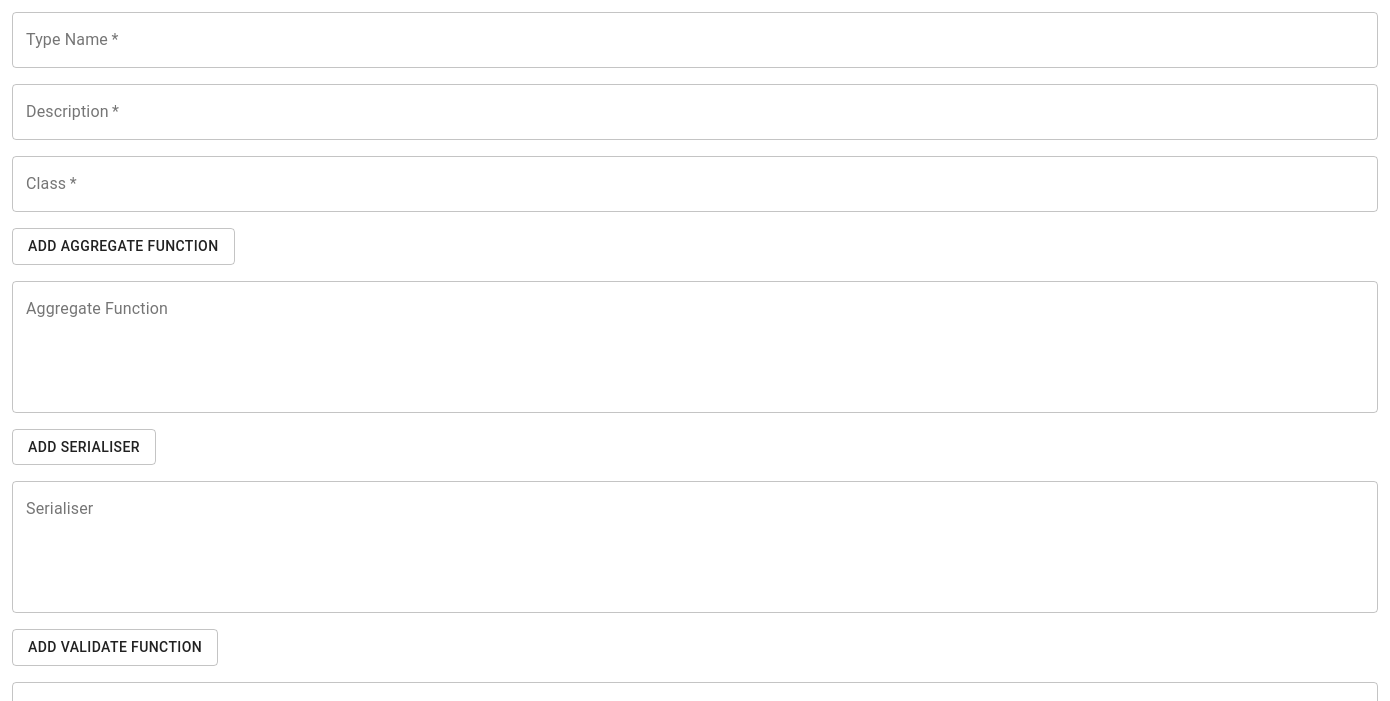
Scenario: Add Type UI Component › Add Type inputs › should display error message when invalid type name entered
In the field with id "type-name-input": (695, 40) x1=12 y1=12 x2=1378 y2=68, type "type name 1"
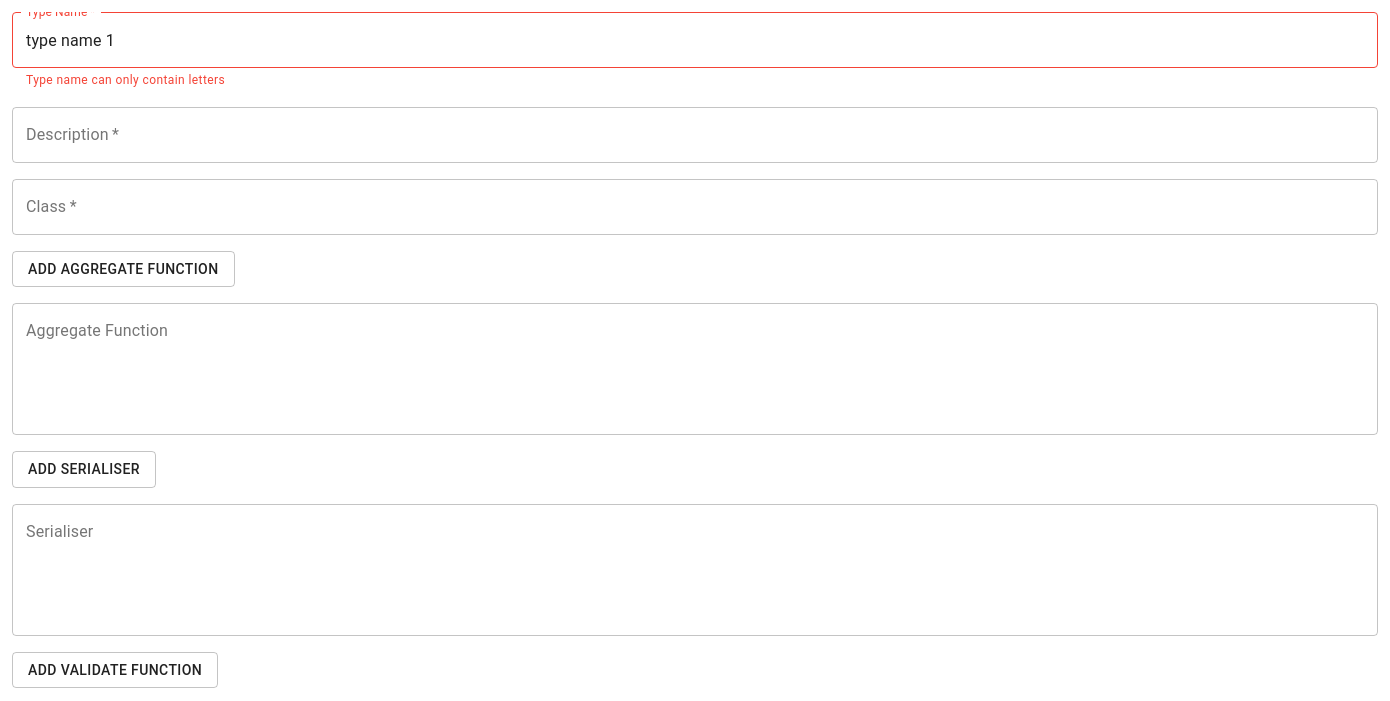
Result: the text with id "type-name-input-helper-text" reads "Type name can only contain letters" at x1=26 y1=73 x2=225 y2=87
